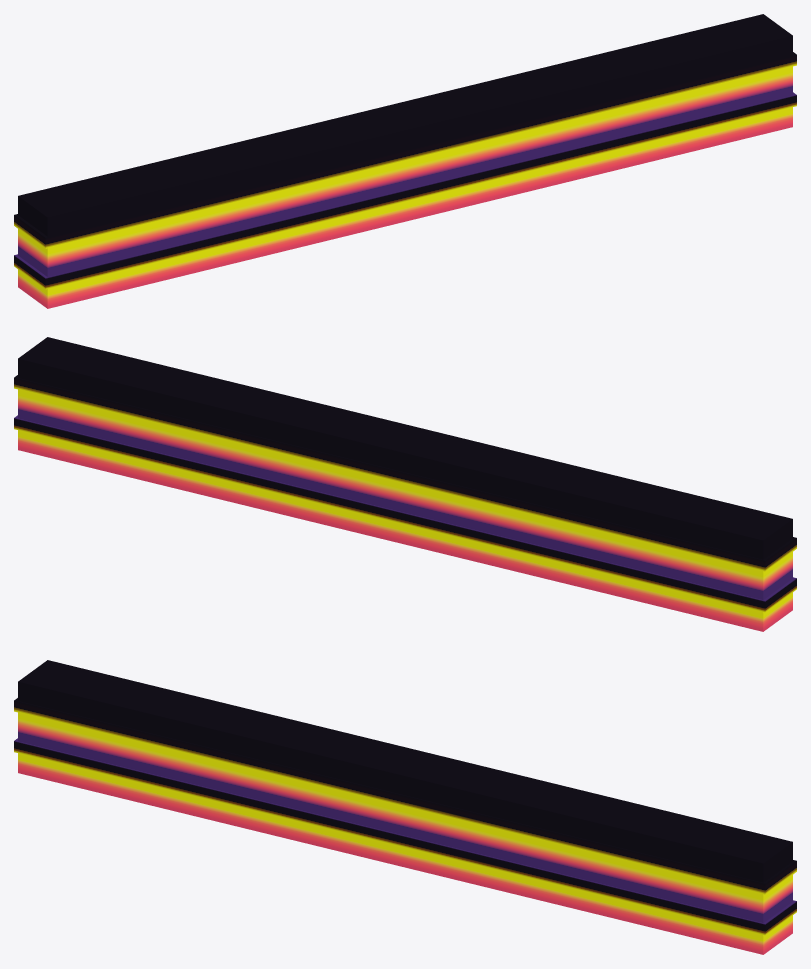
Rendered from urban_border.gltf.
3 renders of one model, top to bottom at view 1: azimuth 30°, elevation 25°; view 2: azimuth 150°, elevation 25°; view 3: azimuth 330°, elevation 25°, orthographic.
Visible parts, largest first — view 1: urban_border_glb; view 2: urban_border_glb; view 3: urban_border_glb.
Part boxes in pixels (x1,y1,x2,y2): urban_border_glb: [14, 14, 796, 308]; urban_border_glb: [14, 337, 796, 631]; urban_border_glb: [14, 660, 796, 954].
Size of what is drawn, in the model's own units: 4.06 by 0.4726 by 0.2962.
Materials: 1 (1 with a texture image).
